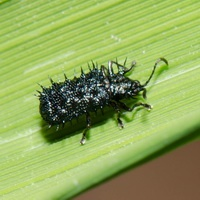insect: (38, 58, 167, 143)
